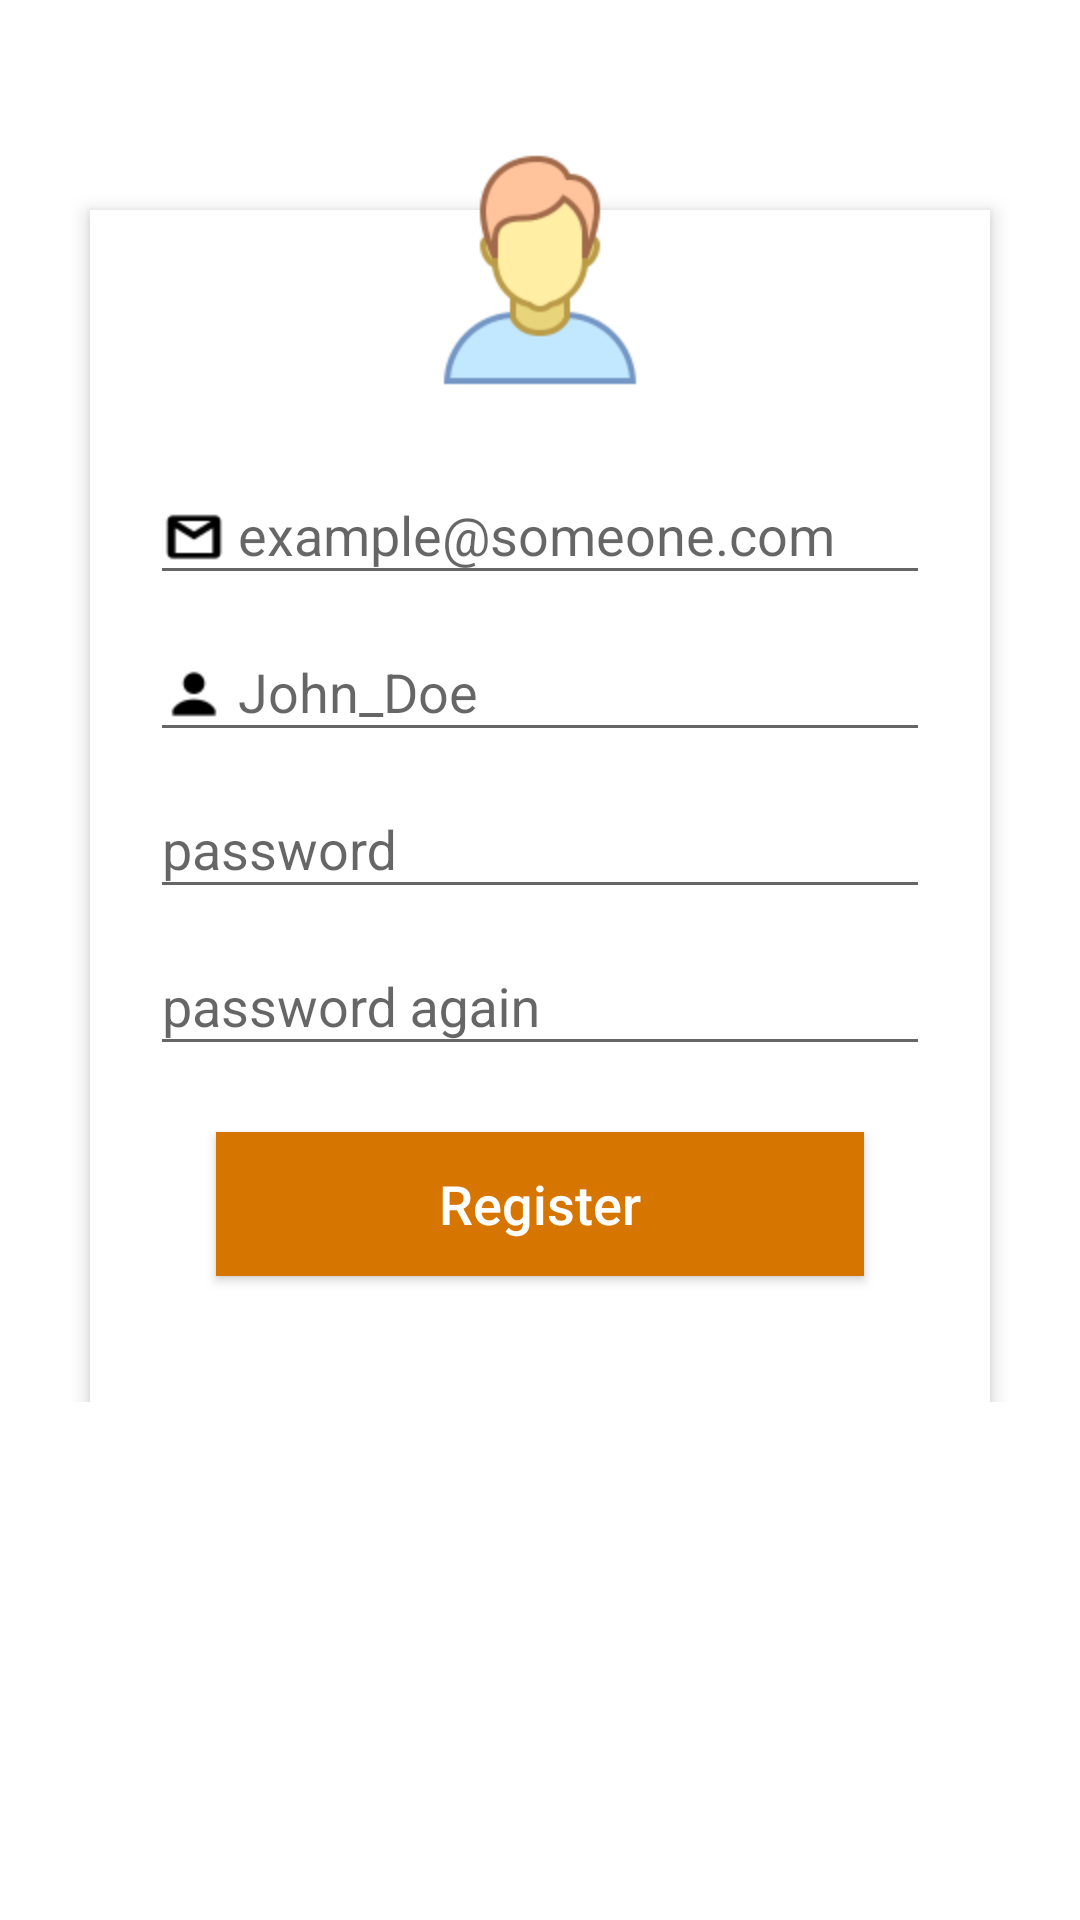

Named icons in this screenshot (1080 x 1920) and their centers, [x,y]:
profile: [540,270]
